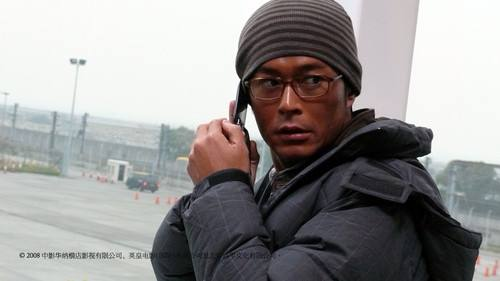phone: (224, 77, 259, 160)
talk: (185, 60, 341, 164)
